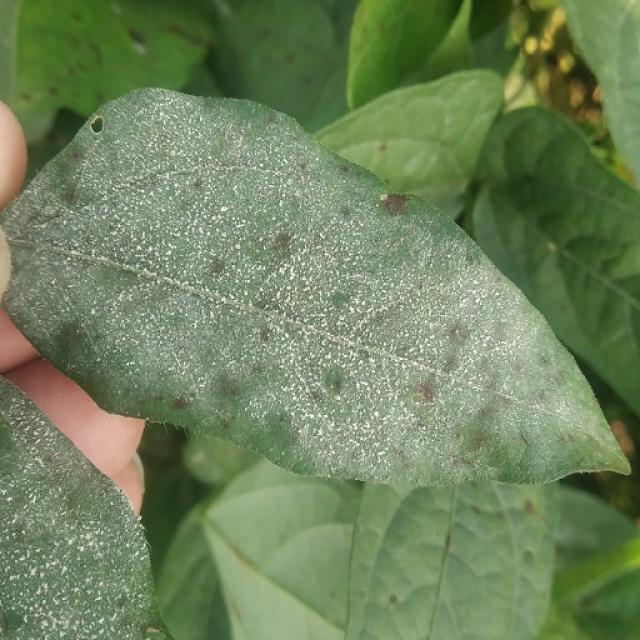Blackgram: (4, 89, 628, 485)
Powdery_Mildew: (284, 238, 490, 411), (236, 214, 387, 341), (5, 493, 126, 630), (99, 289, 203, 394), (470, 185, 546, 307), (3, 445, 83, 555), (316, 426, 450, 487), (193, 161, 298, 238), (300, 384, 401, 461), (139, 176, 229, 256), (367, 575, 475, 635), (546, 409, 635, 480), (122, 99, 224, 159), (556, 228, 636, 290), (15, 421, 76, 493), (263, 445, 332, 479), (297, 386, 349, 428), (400, 148, 437, 179), (26, 200, 68, 226), (56, 322, 81, 346), (381, 193, 408, 215), (89, 116, 105, 134), (258, 326, 273, 343), (522, 548, 536, 566), (309, 389, 324, 405), (523, 499, 536, 516), (339, 205, 353, 219), (64, 191, 77, 205), (581, 595, 594, 608), (265, 113, 279, 125), (33, 457, 45, 470), (465, 252, 476, 266), (444, 533, 452, 551), (192, 178, 204, 189), (20, 91, 32, 102), (388, 593, 398, 605), (340, 164, 351, 174), (372, 409, 381, 419), (29, 566, 38, 576), (378, 142, 387, 152), (380, 192, 389, 201), (22, 614, 30, 624), (220, 205, 229, 213), (30, 495, 38, 504), (135, 409, 143, 418), (5, 495, 14, 502), (136, 513, 143, 522), (90, 307, 97, 315), (124, 409, 132, 416)
